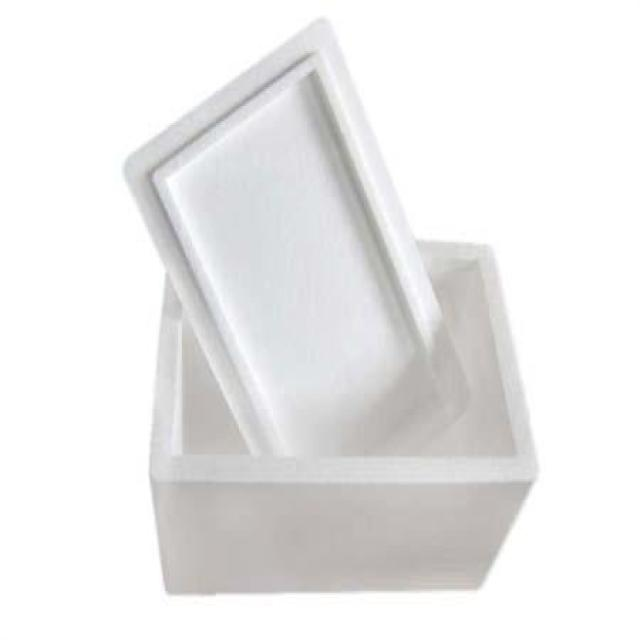styrofoam: (121, 12, 540, 599)
